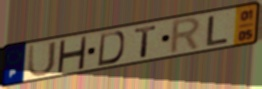D: (96, 30, 126, 67)
H: (56, 36, 89, 74)
L: (205, 14, 231, 47)
R: (168, 15, 204, 56)
T: (133, 24, 159, 59)
U: (26, 40, 58, 79)
